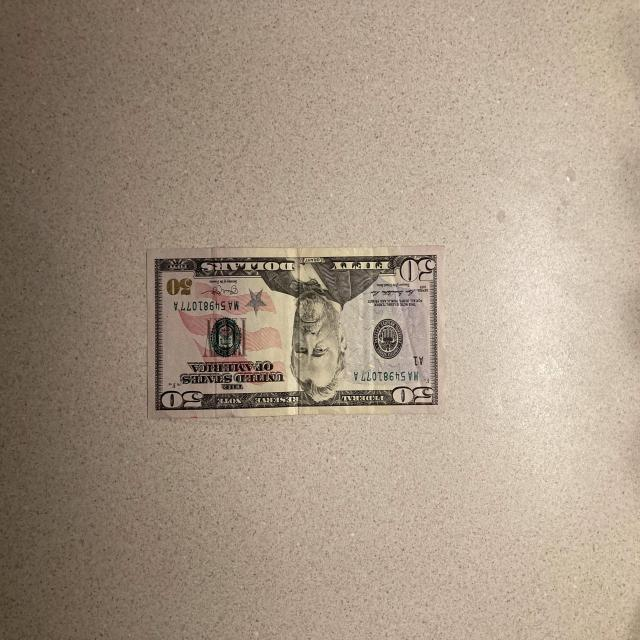fifty: (146, 244, 445, 419)
